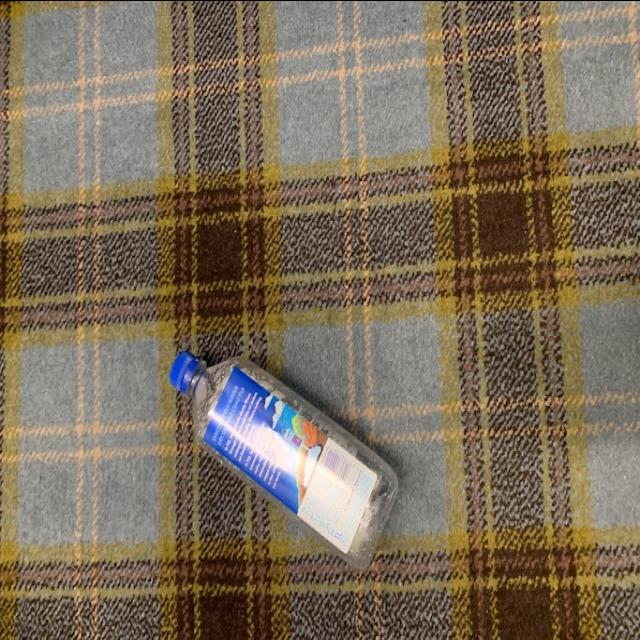PET: (163, 338, 410, 572)
